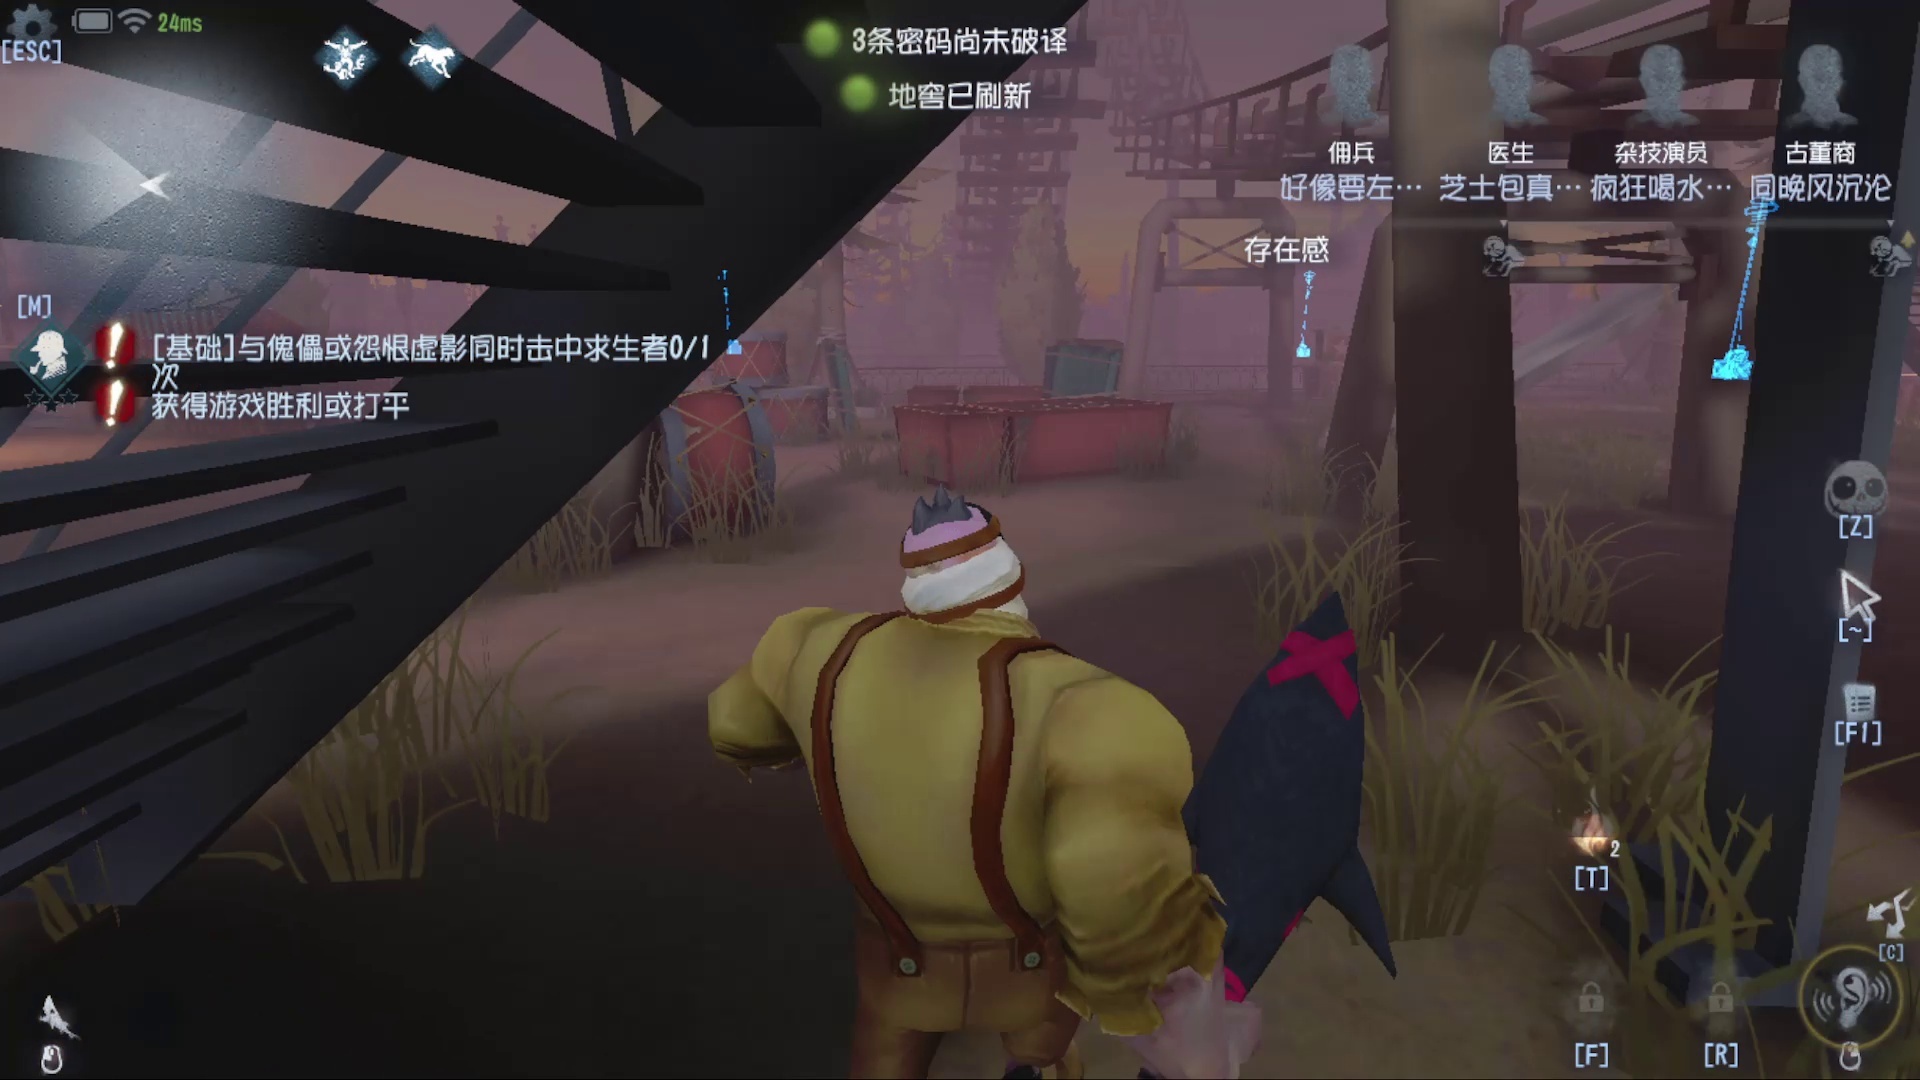密码机: (1675, 196, 1801, 393), (1294, 260, 1335, 382), (723, 261, 753, 386)
木板: (1029, 338, 1135, 425), (816, 338, 884, 448)
